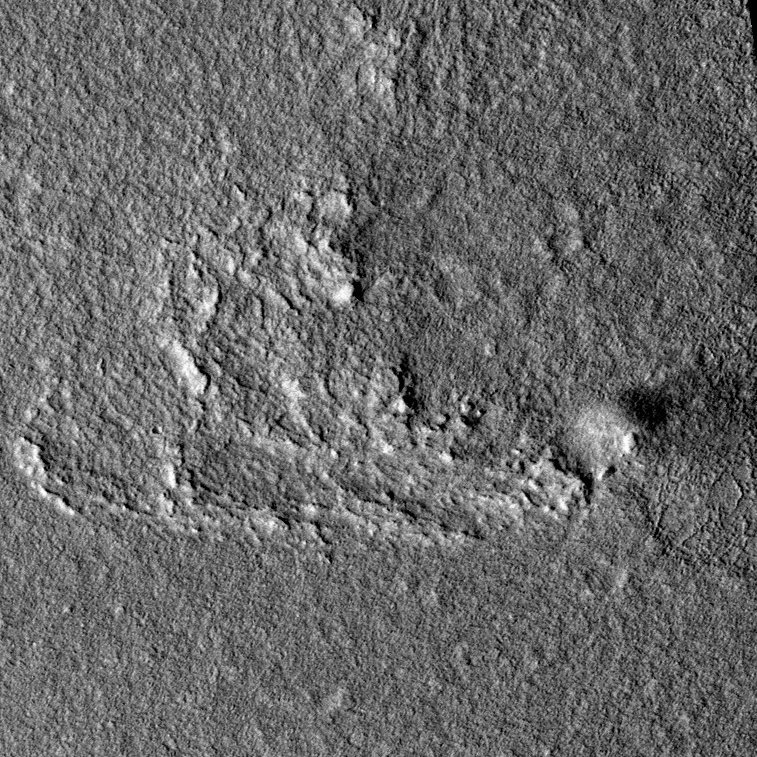dust_devil: (569, 361, 749, 469)
